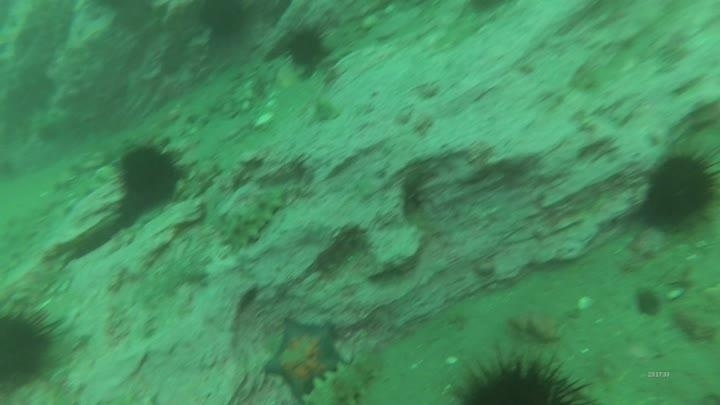echinus: (451, 347, 591, 404), (638, 147, 720, 234), (110, 137, 189, 213), (0, 301, 62, 391), (195, 1, 251, 45), (282, 24, 330, 71)
holothurian: (218, 180, 292, 254), (304, 346, 386, 405)
starfish: (261, 316, 344, 400)
